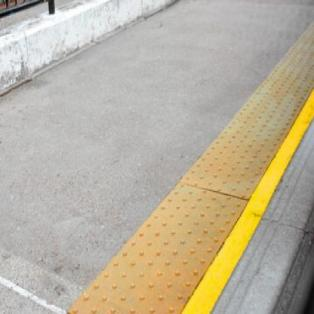Podoctatil: (59, 0, 314, 314)
